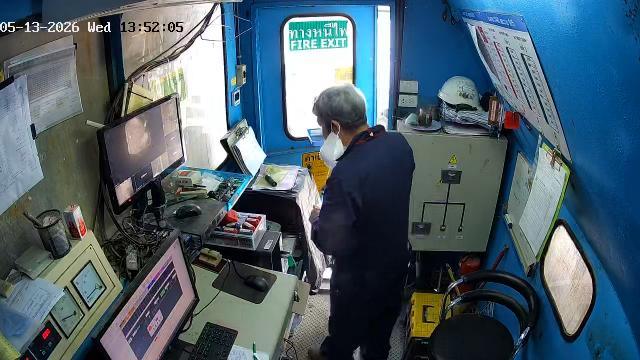Head: (313, 84, 368, 146)
People: (309, 85, 414, 359)
